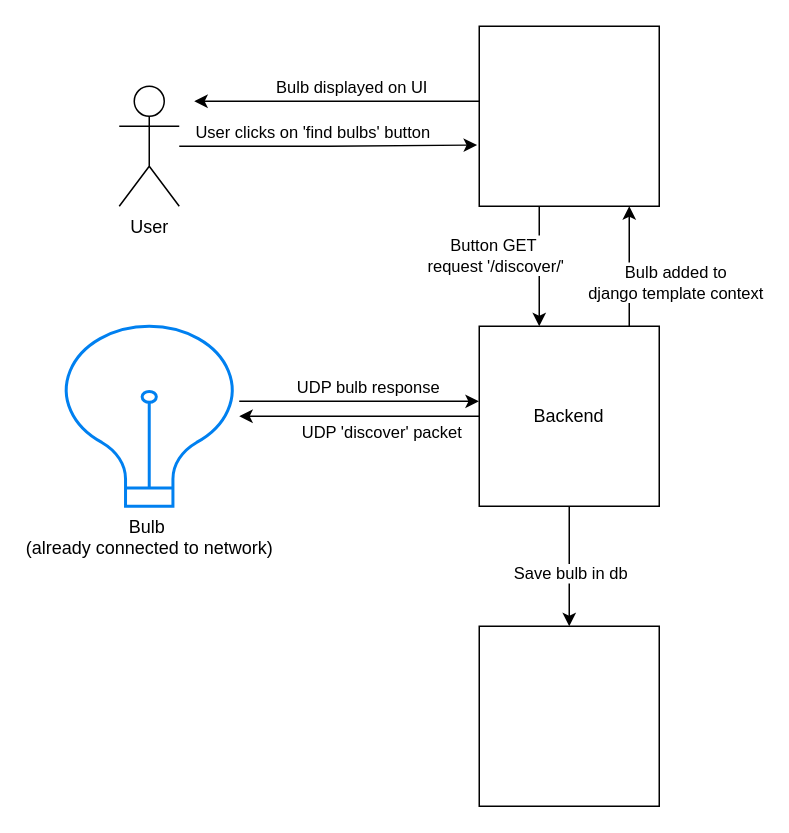
The diagram is 789 pixels wide and 833 high, and some of its shapes have lost their labels. Each missing label, with the centre of its shape:
"DB" goes at (x=568, y=715).
"UI" goes at (x=568, y=115).
